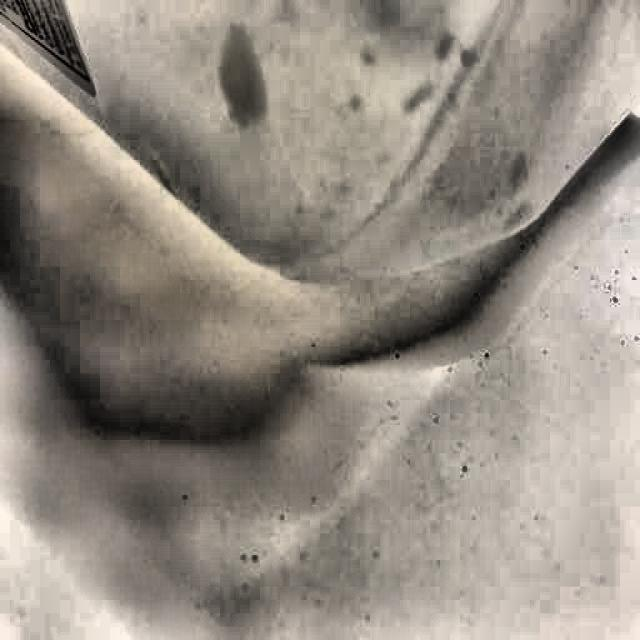plastic: (0, 0, 640, 310)
